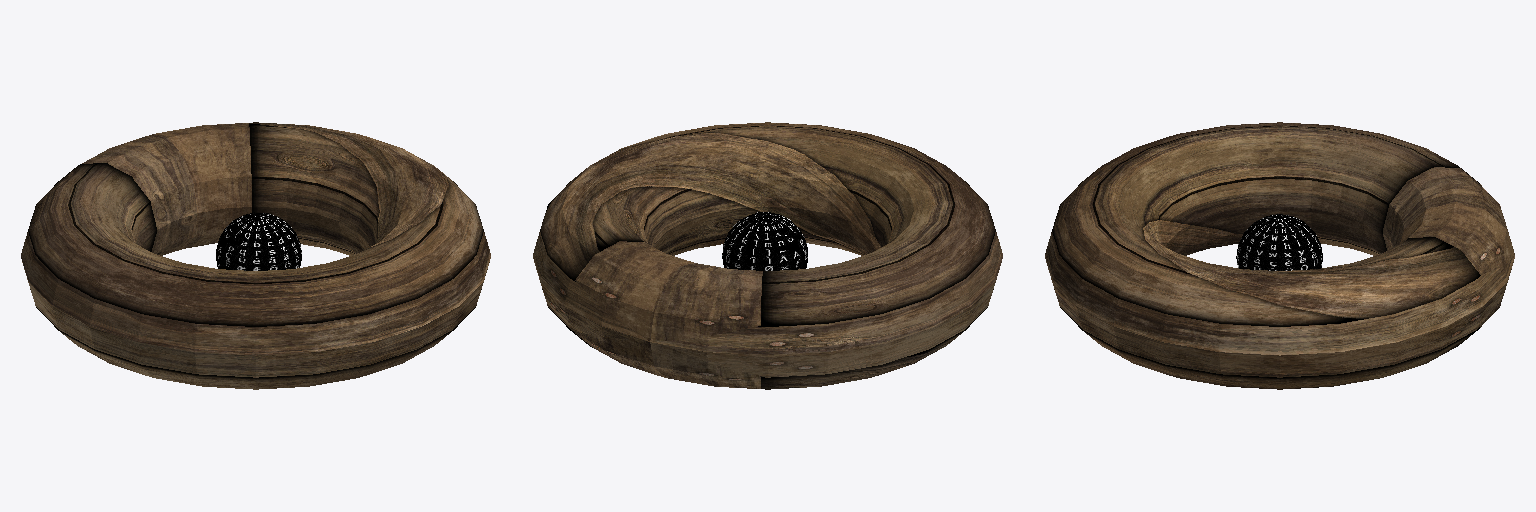
The picture shows the model from 3 angles: view 1: azimuth 30°, elevation 25°; view 2: azimuth 150°, elevation 25°; view 3: azimuth 270°, elevation 25°; orthographic projection.
Parts seen in each view (by area): view 1: Torus001, GeoSphere001; view 2: Torus001, GeoSphere001; view 3: Torus001, GeoSphere001.
Boxes of the visible parts, <box> form: Torus001: <box>21,122,490,389</box>; GeoSphere001: <box>216,212,301,270</box>; Torus001: <box>533,122,1002,389</box>; GeoSphere001: <box>722,212,807,270</box>; Torus001: <box>1045,122,1514,389</box>; GeoSphere001: <box>1236,214,1322,270</box>.
Bounding box in the file's own units: 159 × 40.06 × 159.
2 materials, 2 textured.